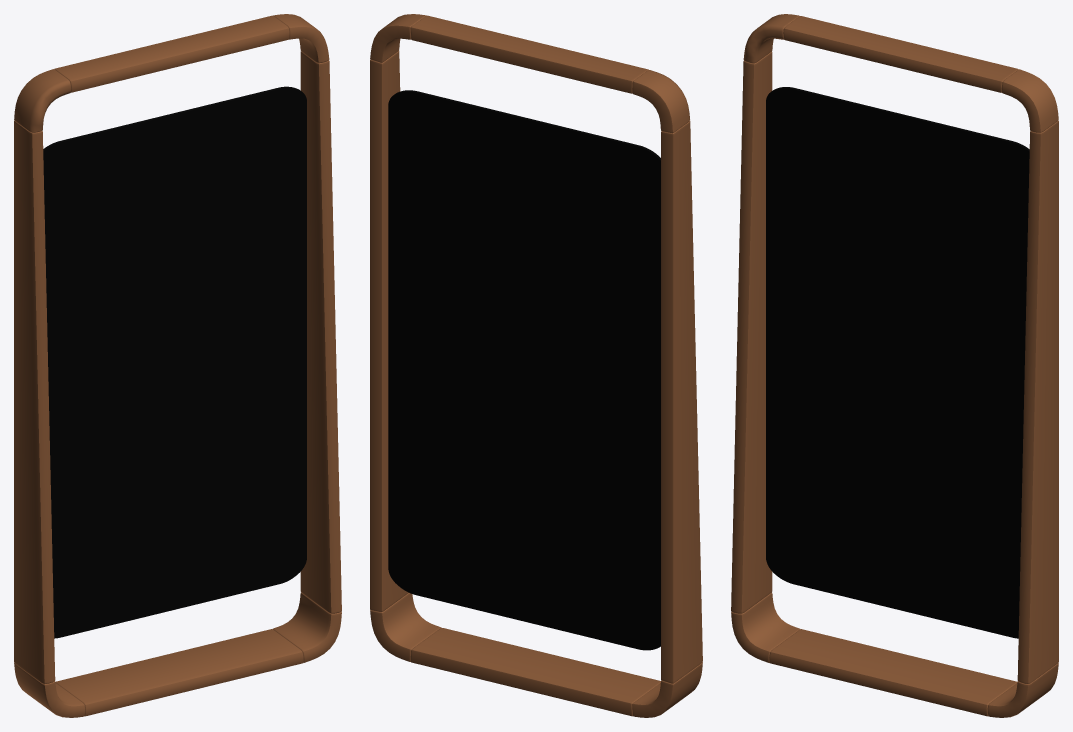
Rendered from Spiegel.FBX.
The picture shows the model from 3 angles, left to right: view 1: azimuth 30°, elevation 25°; view 2: azimuth 150°, elevation 25°; view 3: azimuth 330°, elevation 25°; orthographic projection.
Parts seen in each view (by area): view 1: Skon; view 2: Skon; view 3: Skon.
Boxes of the visible parts, x1,y1,x2,y2 form: Skon: [14, 14, 341, 717]; Skon: [370, 14, 702, 717]; Skon: [731, 14, 1058, 717].
Size of the model in its own units: 600 by 1200 by 110.
